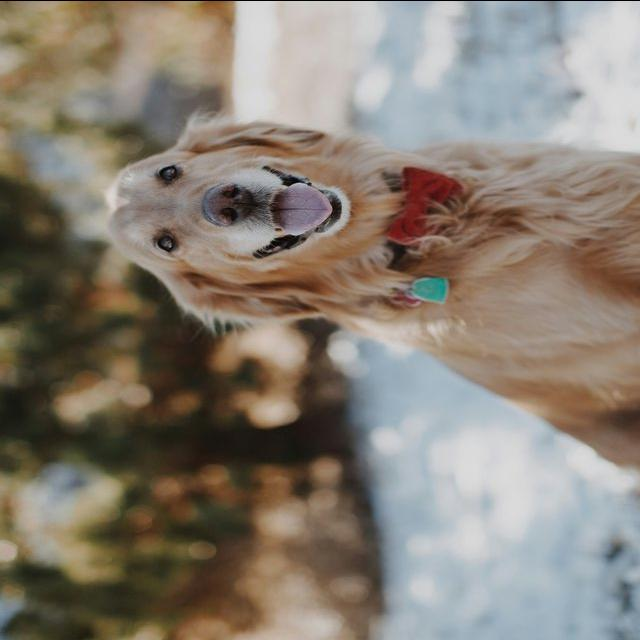retriever: (103, 108, 638, 472)
